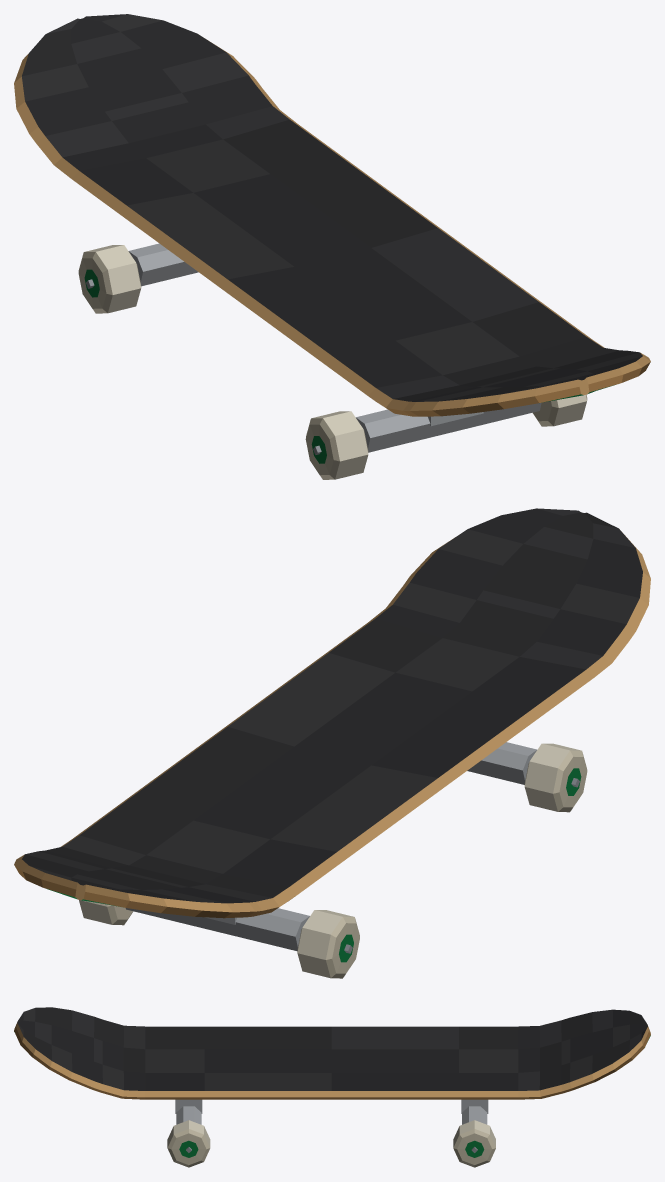
File: skateboard_lod1.glb
The picture shows the model from 3 angles, top to bottom: view 1: azimuth 30°, elevation 25°; view 2: azimuth 150°, elevation 25°; view 3: azimuth 270°, elevation 25°; orthographic projection. The views are drawn at different scales.
Visible parts, largest first — view 1: skateboard_lod1; view 2: skateboard_lod1; view 3: skateboard_lod1.
Part boxes in pixels (<box>): skateboard_lod1: <box>14,14,650,479</box>; skateboard_lod1: <box>14,508,650,978</box>; skateboard_lod1: <box>14,1007,650,1167</box>.
Size of the model in its own units: 0.24 by 0.1494 by 0.8024.
